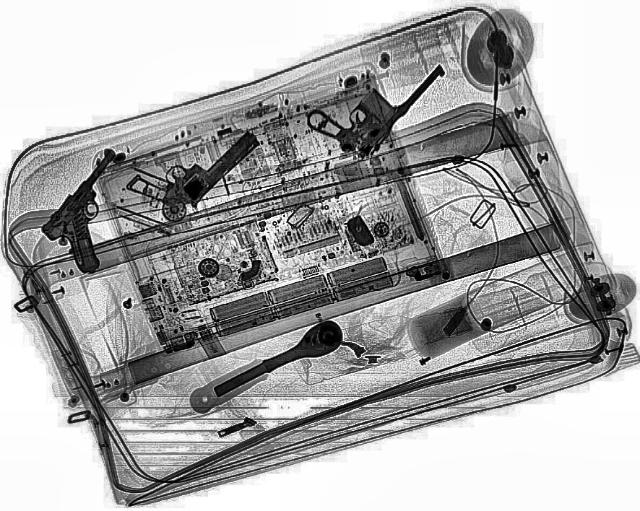Gun: (23, 146, 176, 276), (296, 34, 446, 160), (124, 106, 266, 220)
